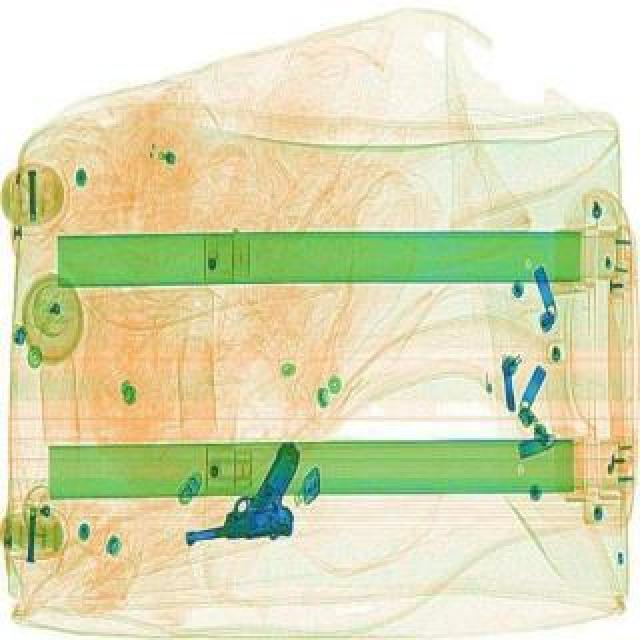gun: (170, 436, 312, 546)
